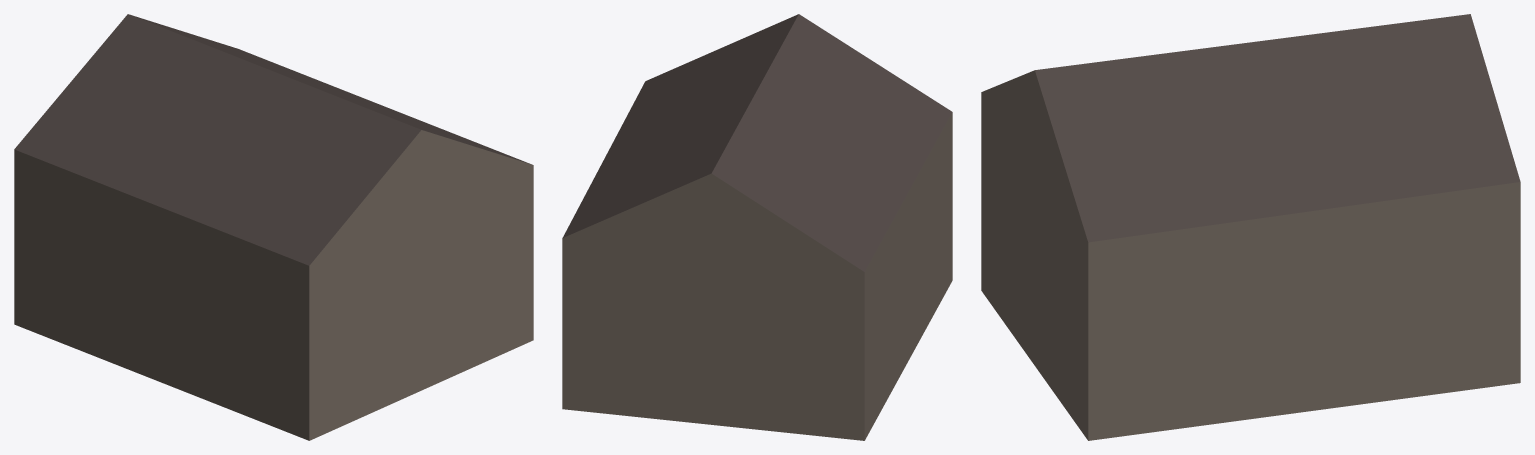
The picture shows the model from 3 angles, left to right: view 1: azimuth 30°, elevation 25°; view 2: azimuth 150°, elevation 25°; view 3: azimuth 270°, elevation 25°; orthographic projection. The views are drawn at different scales.
Visible parts, largest first — view 1: HP-w1198840870; view 2: HP-w1198840870; view 3: HP-w1198840870.
Boxes of the visible parts, left/top/right/bottom form: HP-w1198840870: left=14, top=14, right=533, bottom=440; HP-w1198840870: left=562, top=14, right=952, bottom=440; HP-w1198840870: left=981, top=14, right=1520, bottom=440.
Size of the model in its own units: 13.4 by 8.94 by 14.77.
